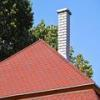chimneys: (58, 8, 70, 62)
